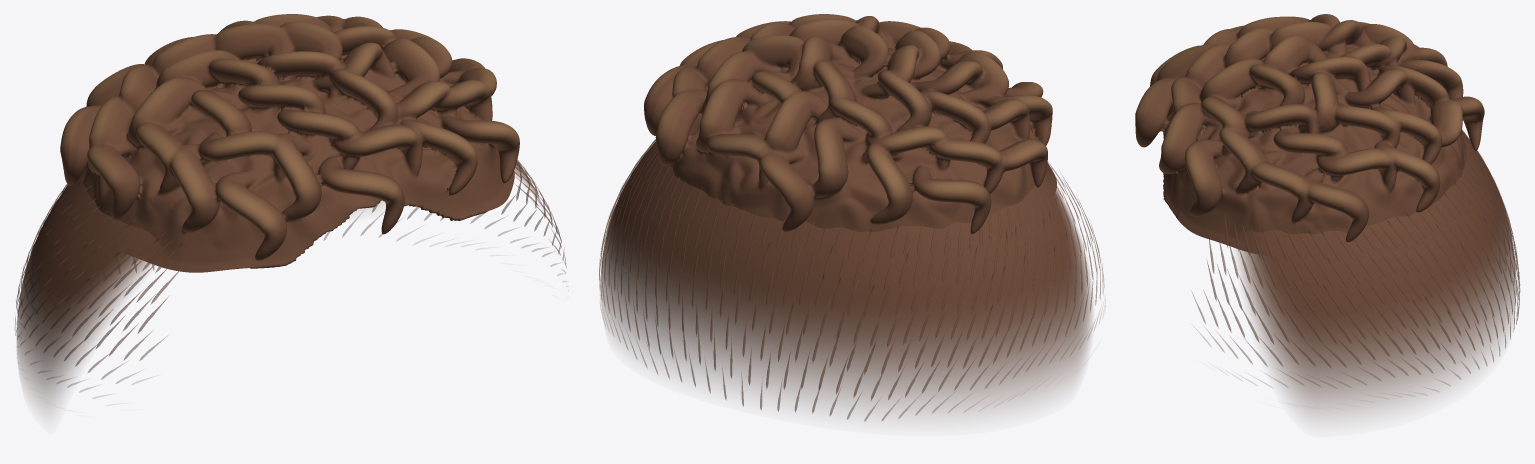
File: Masculine-curly-top-hair259-ombre.glb
The picture shows the model from 3 angles, left to right: view 1: azimuth 30°, elevation 25°; view 2: azimuth 150°, elevation 25°; view 3: azimuth 270°, elevation 25°; orthographic projection. The views are drawn at different scales.
Parts seen in each view (by area): view 1: 226 hair / Hair252 / sculpted curl groups, 226 hair / Hair258 / smooth side fade, 226 hair / Hair259 / directional fade marks214; view 2: 226 hair / Hair258 / smooth side fade, 226 hair / Hair252 / sculpted curl groups, 226 hair / Hair259 / directional fade marks214; view 3: 226 hair / Hair252 / sculpted curl groups, 226 hair / Hair258 / smooth side fade, 226 hair / Hair259 / directional fade marks214.
Boxes of the visible parts, x1,y1,x2,y2 form: 226 hair / Hair252 / sculpted curl groups: (60, 14, 519, 272); 226 hair / Hair258 / smooth side fade: (16, 161, 545, 411); 226 hair / Hair259 / directional fade marks214: (15, 154, 567, 398); 226 hair / Hair258 / smooth side fade: (601, 141, 1092, 415); 226 hair / Hair252 / sculpted curl groups: (644, 14, 1056, 233); 226 hair / Hair259 / directional fade marks214: (599, 139, 1105, 421); 226 hair / Hair252 / sculpted curl groups: (1135, 14, 1484, 253); 226 hair / Hair258 / smooth side fade: (1235, 131, 1516, 418); 226 hair / Hair259 / directional fade marks214: (1192, 129, 1520, 394).
Bounding box in the file's own units: 0.9743 × 0.665 × 0.7572.
